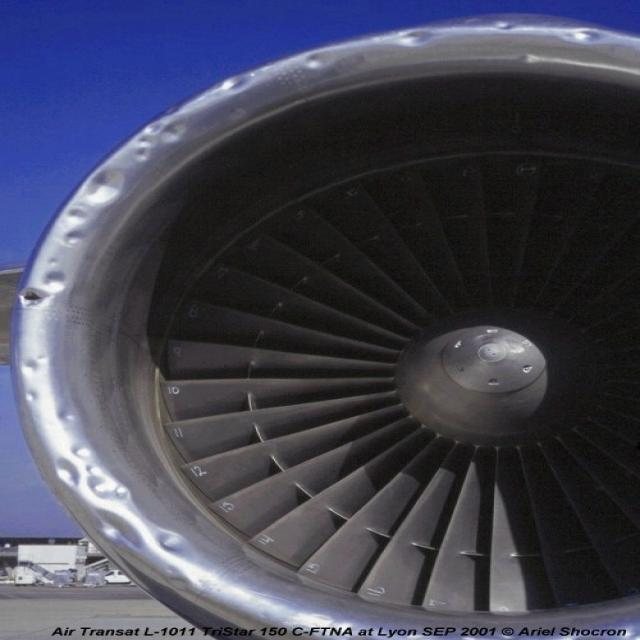dent: (46, 445, 208, 598), (74, 165, 131, 207)
